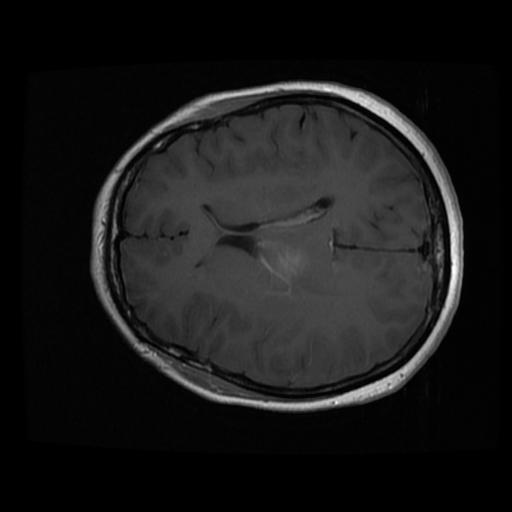meningioma: (255, 209, 320, 287)
